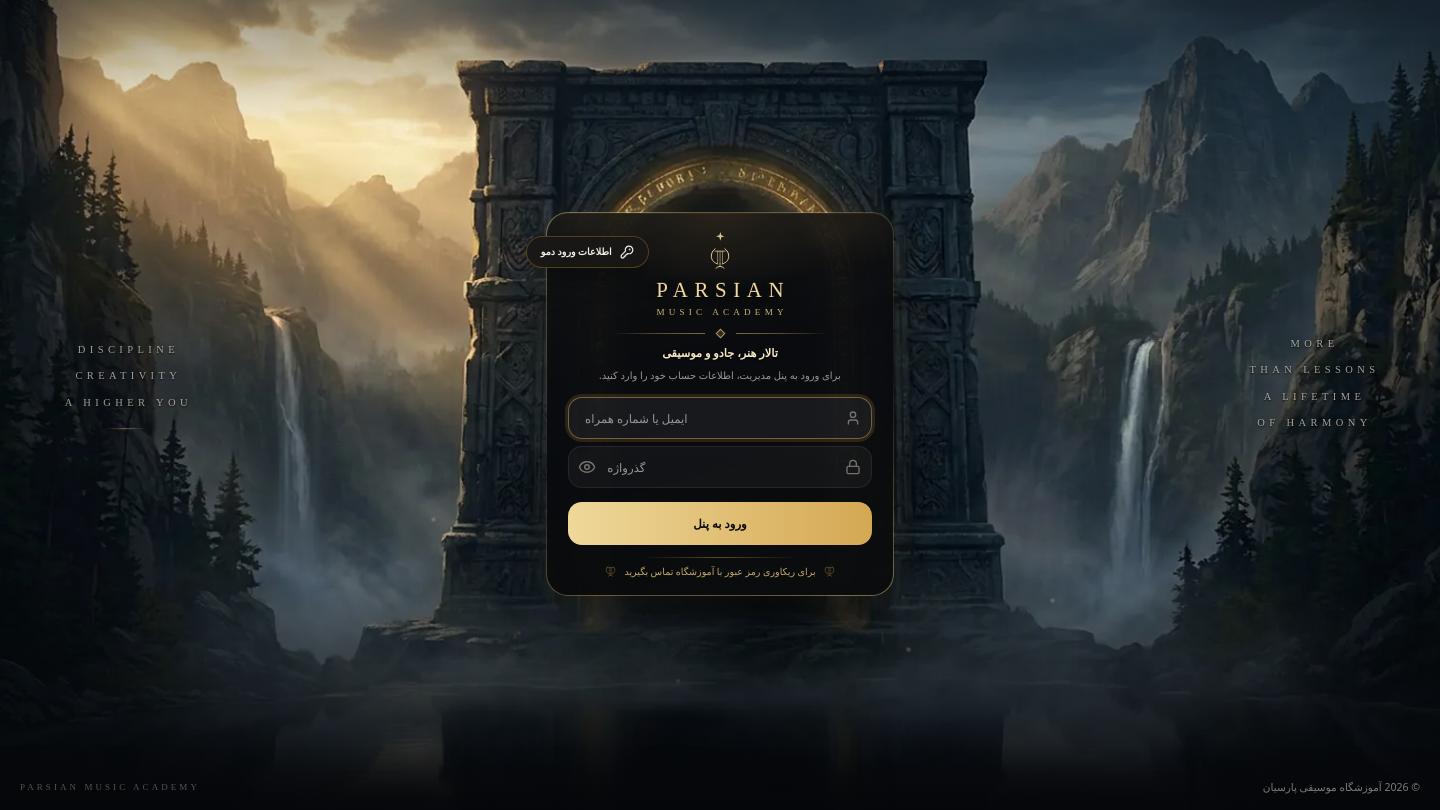
Scenario: validation › reports a missing password
In the field labelled "ایمیل": (720, 418) [568,397,872,438], type "admin@demo.local"
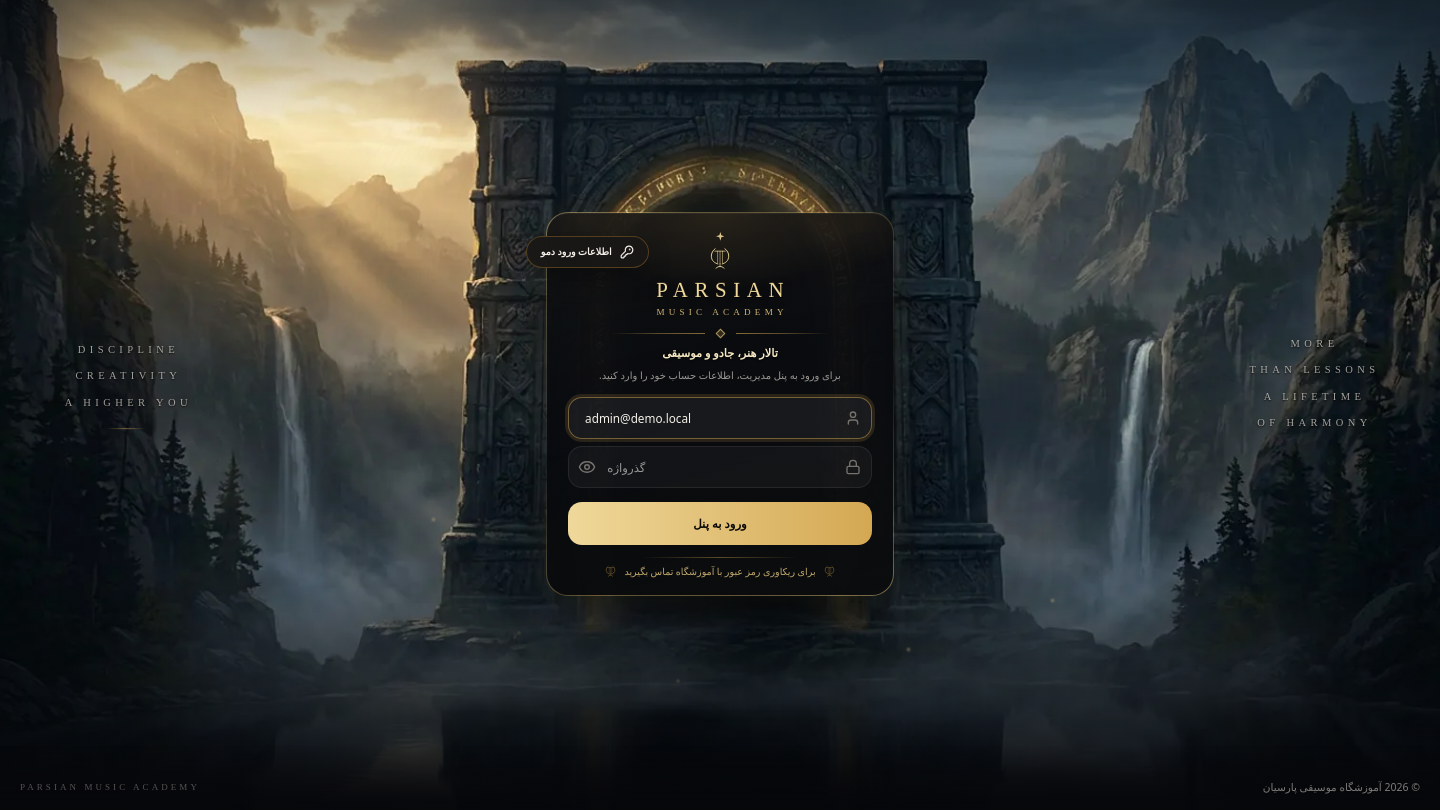
In the password field labelled "گذرواژه": (720, 467) [568,446,872,488], type "x"
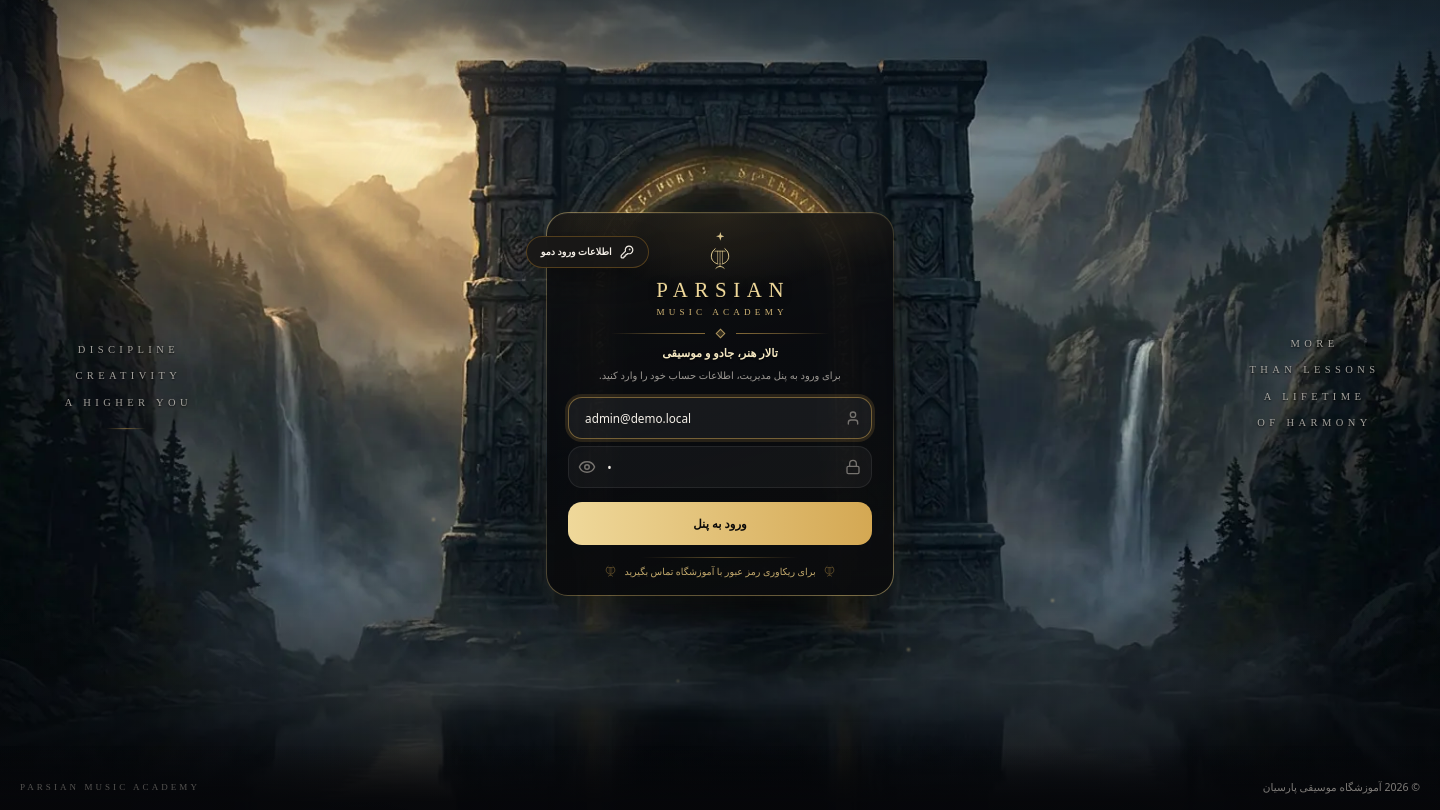
Clear the password field named "گذرواژه": (720, 467) [568,446,872,488]
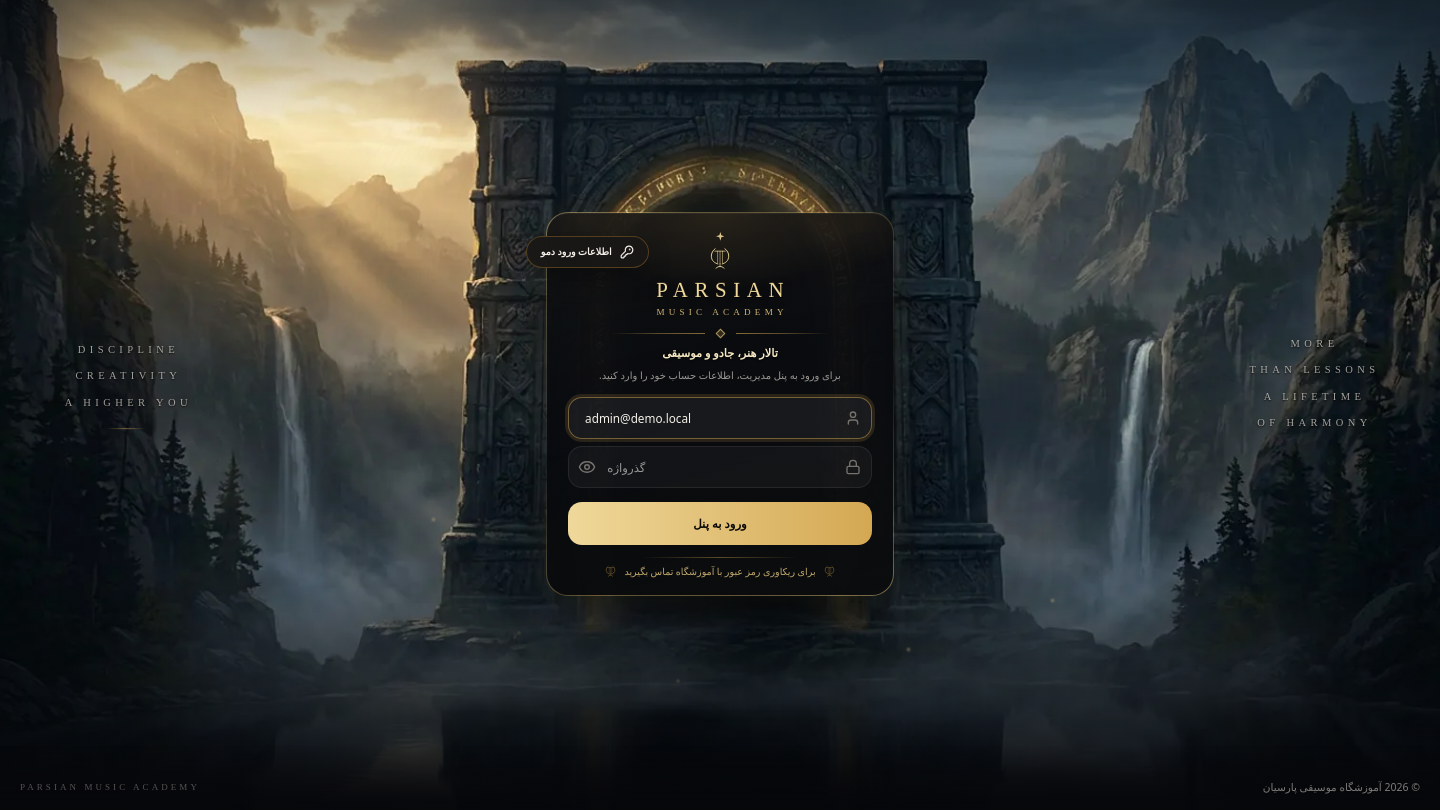
Submit the form named "ایمیل", box [568,397,872,579]
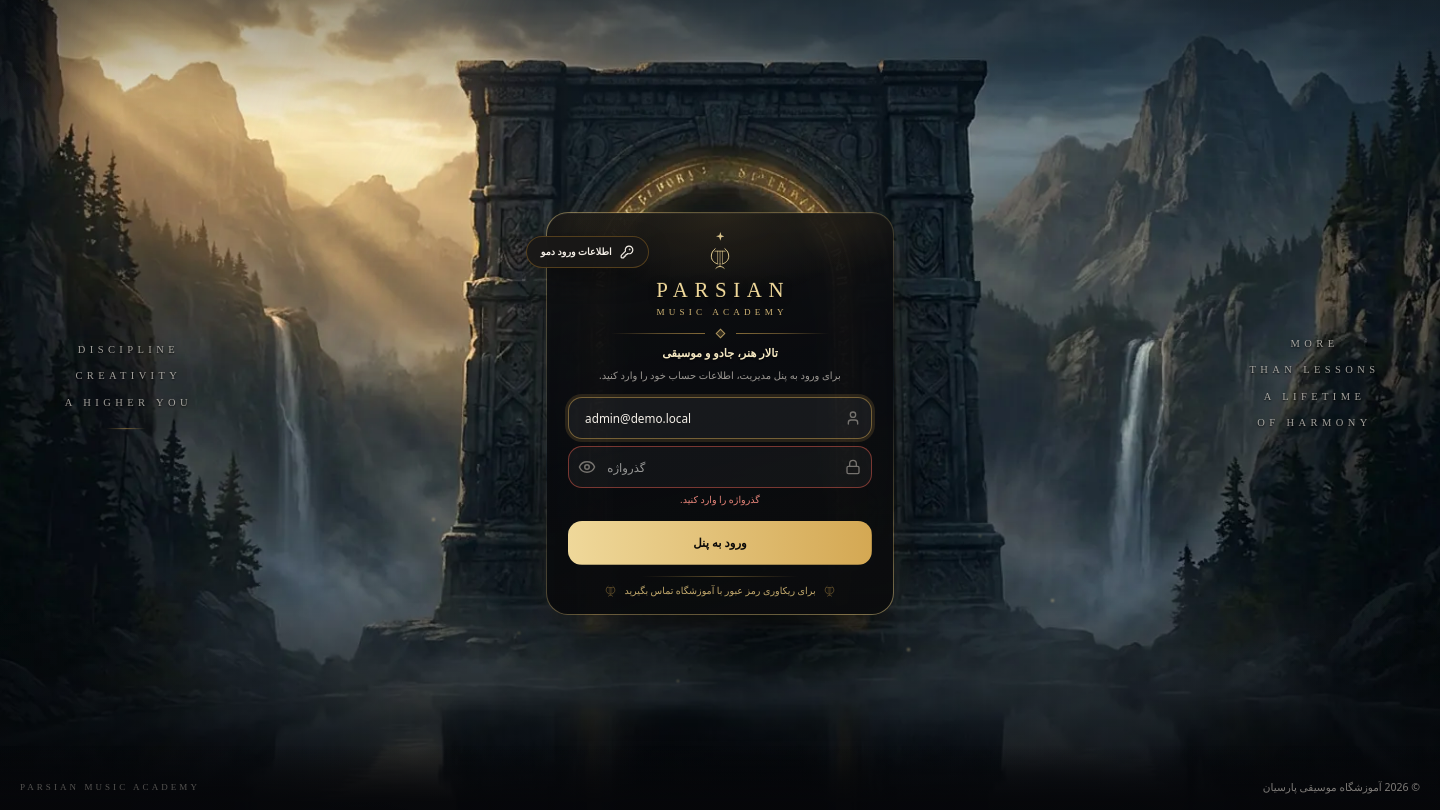
Result: the text "گذرواژه را وارد کنید." is shown at [680,493,760,506]
